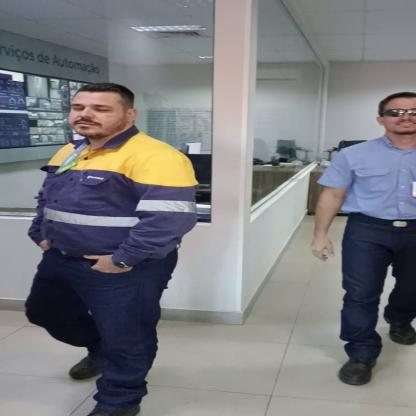Operacional: (23, 133, 210, 271)
